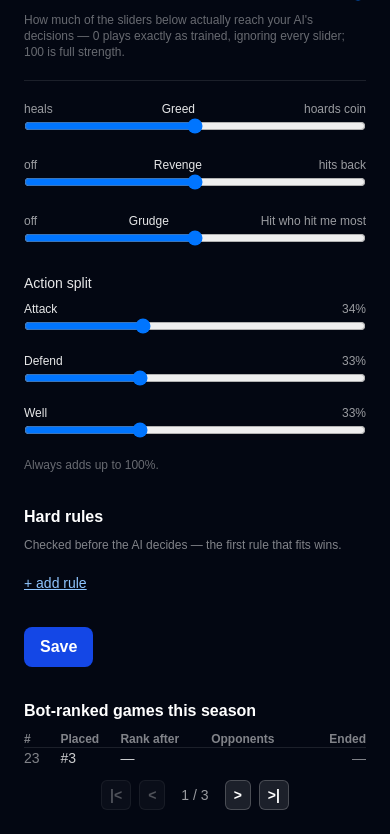
Test: MyAiPage › pages through the season's games, the first numbered 1 and the newest n
(page scrolled)
expect the text "1 / 3" is shown: met, box [181,787,209,803]
expect the text "23" is shown: met, box [24,748,60,768]
Click the button named "Last page".
click(274, 795)  # box [259,780,289,810]
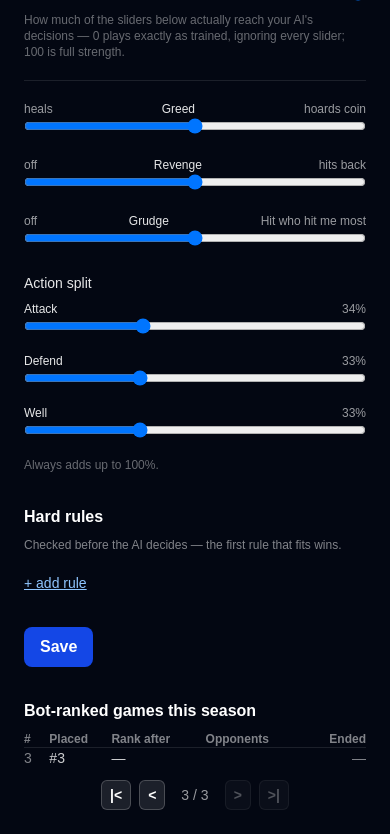
expect the text "3" is shown: met, box [24,748,49,768]
expect the text "3 / 3" is shown: met, box [181,787,209,803]
expect the button named "Next page" is disabled: met, box [225,780,251,810]
